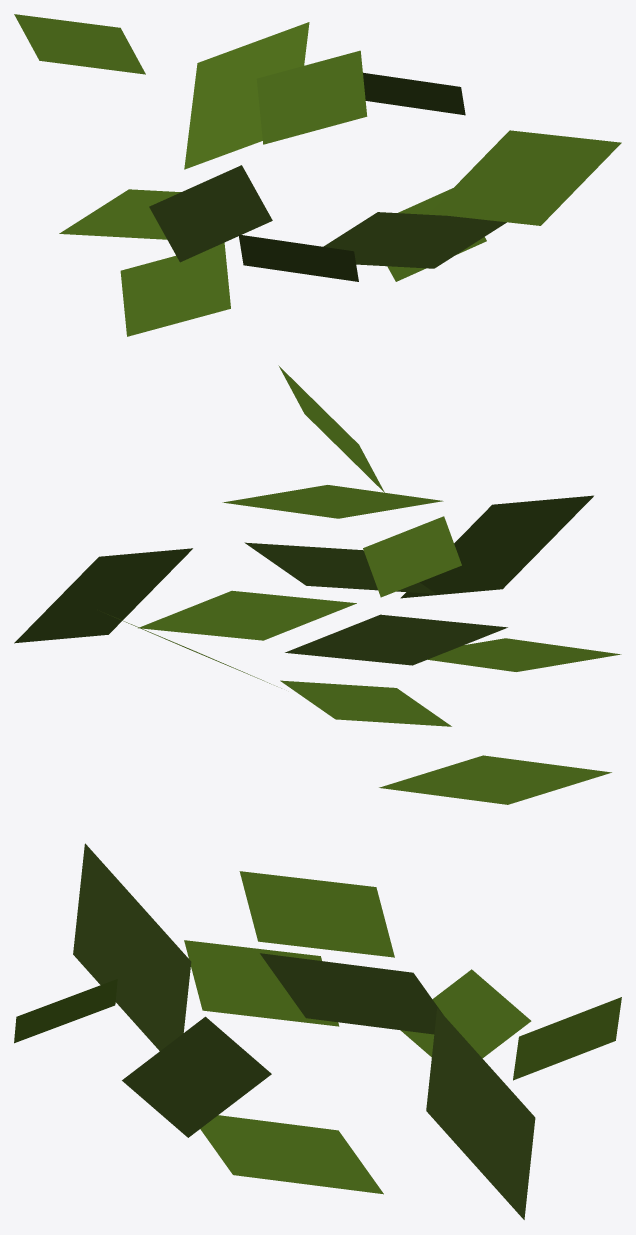
Rendered from Plant_Cut_animation.fbx.
3 renders of one model, top to bottom at view 1: azimuth 30°, elevation 25°; view 2: azimuth 150°, elevation 25°; view 3: azimuth 270°, elevation 25°, orthographic. The views are drawn at different scales.
Parts seen in each view (by area): view 1: Plane.007, Plane.005, Plane.008, Plane.009, Plane.003, Plane.001, Plane.010, Plane.004, Plane.002, Plane.006, Plane; view 2: Plane.004, Plane.006, Plane.001, Plane, Plane.010, Plane.002, Plane.003, Plane.008, Plane.009, Plane.007; view 3: Plane.004, Plane.006, Plane.008, Plane.003, Plane.001, Plane, Plane.009, Plane.010, Plane.002, Plane.005, Plane.007.
Boxes of the visible parts, x1,y1,x2,y2 form: Plane.007: (429, 130, 621, 225); Plane.005: (184, 22, 309, 169); Plane.008: (256, 50, 367, 144); Plane.009: (120, 242, 230, 336); Plane.003: (323, 212, 506, 268); Plane.001: (149, 165, 272, 262); Plane.010: (14, 14, 145, 74); Plane.004: (238, 234, 358, 281); Plane.002: (59, 189, 180, 239); Plane.006: (363, 72, 465, 115); Plane: (387, 188, 486, 281); Plane.004: (400, 495, 593, 598); Plane.006: (14, 548, 192, 643); Plane.001: (285, 614, 507, 665); Plane: (138, 590, 356, 640); Plane.010: (363, 516, 461, 597); Plane.002: (280, 680, 451, 726); Plane.003: (244, 542, 435, 593); Plane.008: (222, 485, 443, 518); Plane.009: (428, 638, 621, 671); Plane.007: (278, 365, 384, 492); Plane.004: (73, 843, 191, 1050); Plane.006: (426, 1008, 535, 1219); Plane.008: (239, 871, 394, 957); Plane.003: (122, 1016, 271, 1137); Plane.001: (260, 953, 443, 1034); Plane: (200, 1115, 383, 1194); Plane.009: (184, 940, 339, 1026); Plane.010: (379, 755, 611, 804); Plane.002: (401, 969, 531, 1058); Plane.005: (513, 997, 621, 1080); Plane.007: (14, 979, 117, 1043).
Bounding box in the file's own units: 171 × 64.29 × 157.
Materials: 1 (1 with a texture image).
